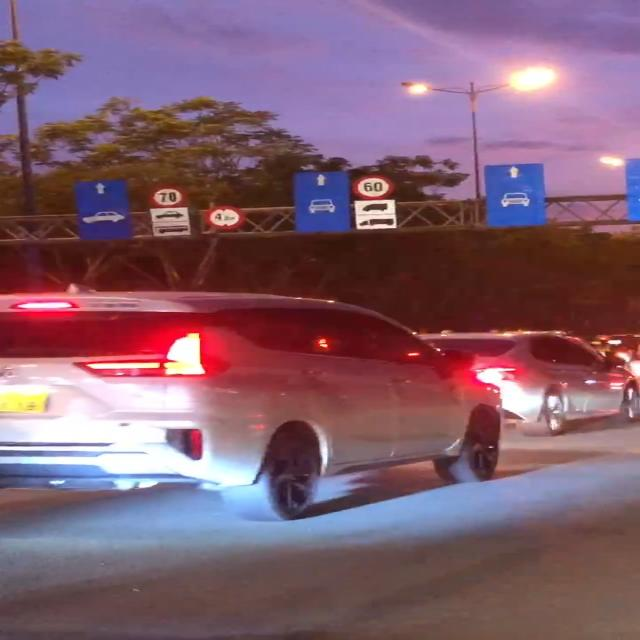Bien bao han che chieu cao: (205, 204, 242, 230)
Bien bao toc do toi da cho phep: (350, 174, 400, 201), (146, 186, 188, 208)
